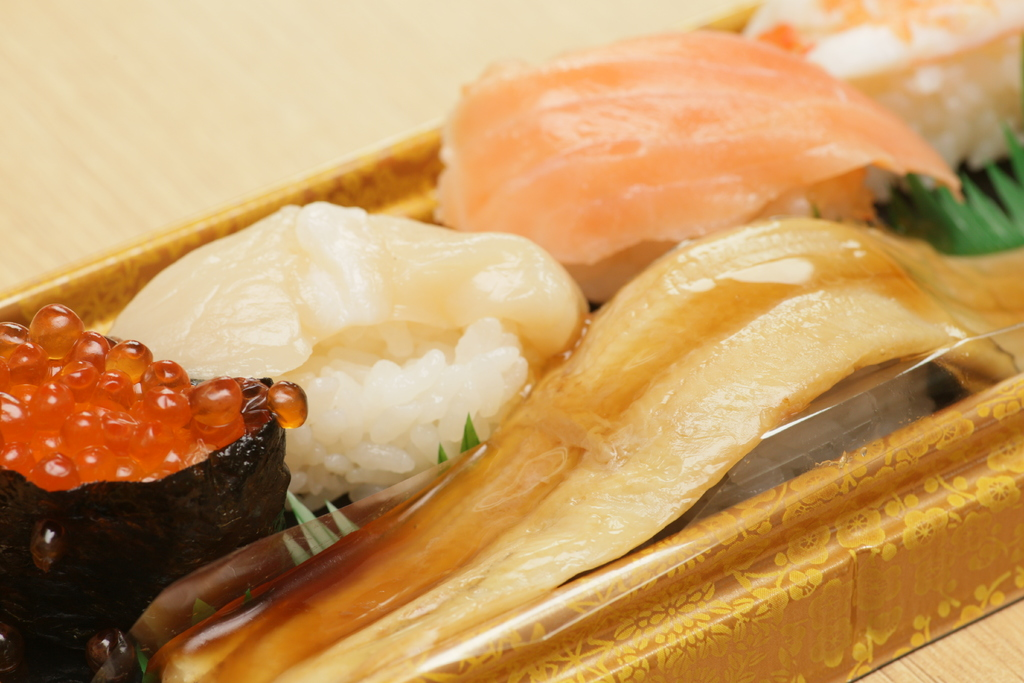sushi: (435, 33, 969, 308), (102, 200, 593, 498), (0, 300, 320, 682), (744, 0, 1023, 202)
